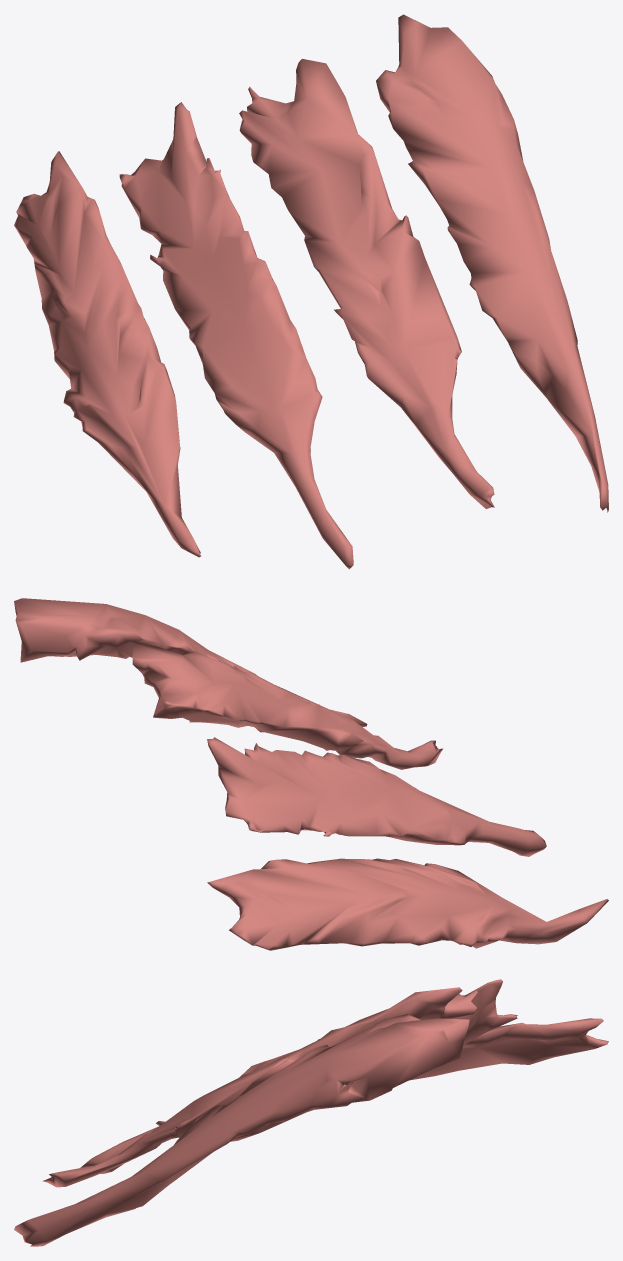
3 renders of one model, top to bottom at view 1: azimuth 30°, elevation 25°; view 2: azimuth 150°, elevation 25°; view 3: azimuth 270°, elevation 25°, orthographic. The views are drawn at different scales.
Parts seen in each view (by area): view 1: ZA_0d74f095aecd6a5b; view 2: ZA_0d74f095aecd6a5b; view 3: ZA_0d74f095aecd6a5b.
Part boxes in pixels (left/top/right/bottom): ZA_0d74f095aecd6a5b: left=14, top=14, right=608, bottom=569; ZA_0d74f095aecd6a5b: left=14, top=598, right=608, bottom=950; ZA_0d74f095aecd6a5b: left=14, top=979, right=608, bottom=1246.
Bounding box in the file's own units: 0.0513 × 0.0369 × 0.0722.
